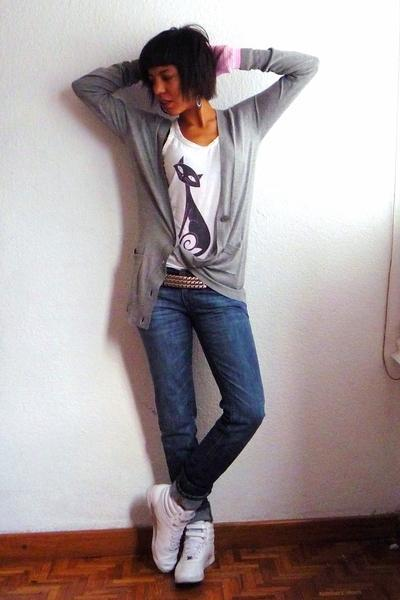jacket: (72, 48, 317, 335)
pants: (137, 283, 264, 525)
shirt: (162, 123, 226, 287)
shoe: (139, 474, 220, 581)
